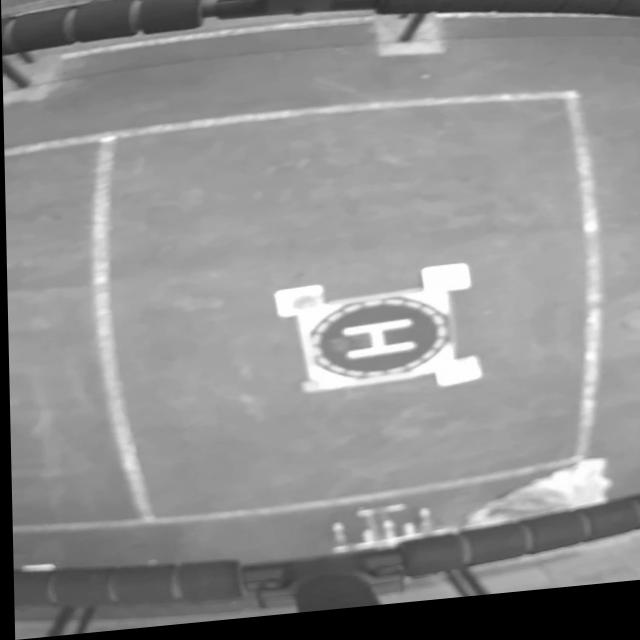Helipad: (337, 326, 414, 368)
